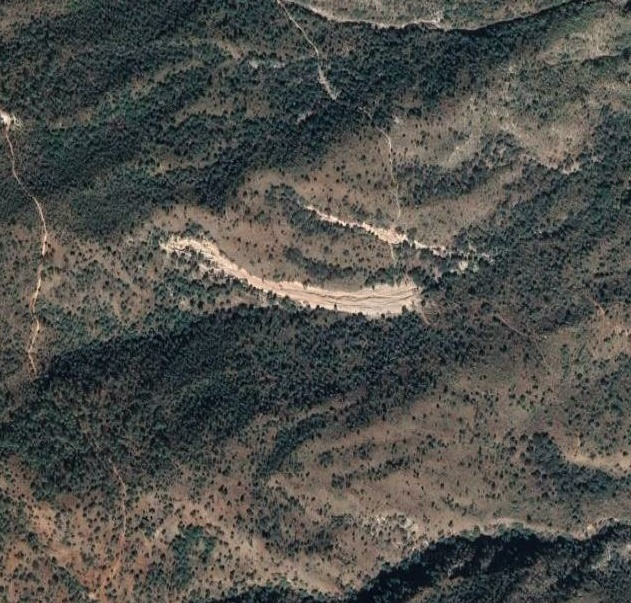slope: (153, 226, 428, 321), (306, 204, 438, 256)
